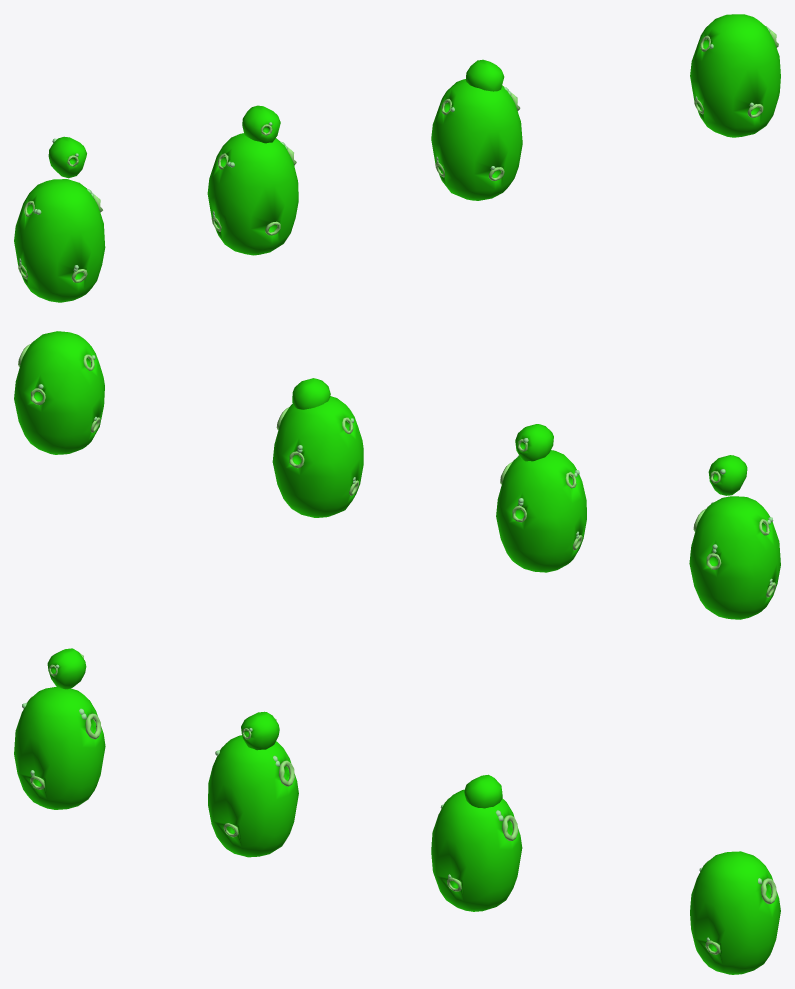
File: Budding in Yeast.fbx
3 views of the same model, one above another, from view 1: azimuth 30°, elevation 25°; view 2: azimuth 150°, elevation 25°; view 3: azimuth 330°, elevation 25° (orthographic).
Visible parts, largest first — view 1: Torus.011, Torus.044, Torus.020, Torus.012, Torus.049, Torus.043, Torus.017; view 2: Torus.044, Torus.011, Torus.020, Torus.012, Torus.049, Torus.043, Torus.017; view 3: Torus.011, Torus.044, Torus.020, Torus.012, Torus.049, Torus.043, Torus.017.
Part boxes in pixels (bbox=[...]): Torus.011: bbox=[690, 14, 780, 137]; Torus.044: bbox=[14, 179, 105, 302]; Torus.020: bbox=[207, 133, 298, 255]; Torus.012: bbox=[431, 79, 522, 200]; Torus.049: bbox=[48, 136, 86, 178]; Torus.043: bbox=[242, 105, 280, 143]; Torus.017: bbox=[466, 59, 504, 91]; Torus.044: bbox=[689, 496, 780, 619]; Torus.011: bbox=[14, 331, 104, 454]; Torus.020: bbox=[496, 450, 586, 572]; Torus.012: bbox=[272, 396, 363, 517]; Torus.049: bbox=[708, 455, 747, 495]; Torus.043: bbox=[515, 424, 553, 461]; Torus.017: bbox=[292, 378, 330, 409]; Torus.011: bbox=[690, 851, 780, 974]; Torus.044: bbox=[14, 686, 105, 809]; Torus.020: bbox=[208, 735, 298, 857]; Torus.012: bbox=[431, 789, 522, 911]; Torus.049: bbox=[47, 648, 86, 689]; Torus.043: bbox=[241, 711, 279, 750]; Torus.017: bbox=[464, 774, 502, 808].
Bounding box in the file's own units: 1932 × 387 × 206.
